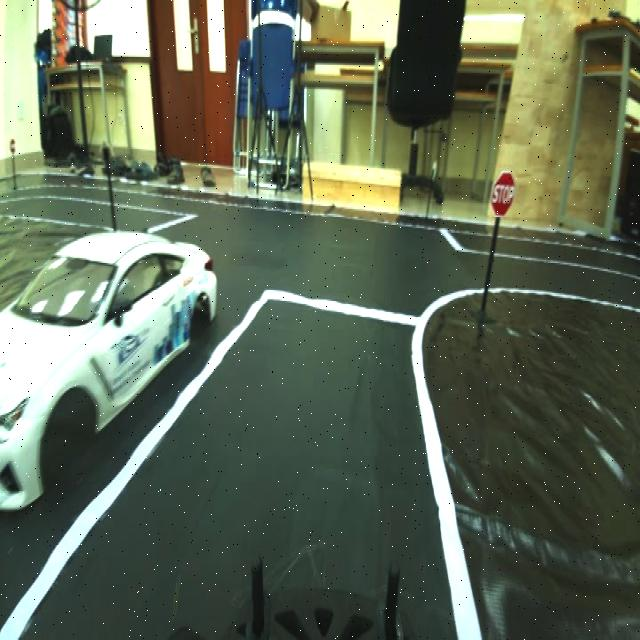car: (1, 205, 220, 449)
stop: (488, 162, 518, 225)
